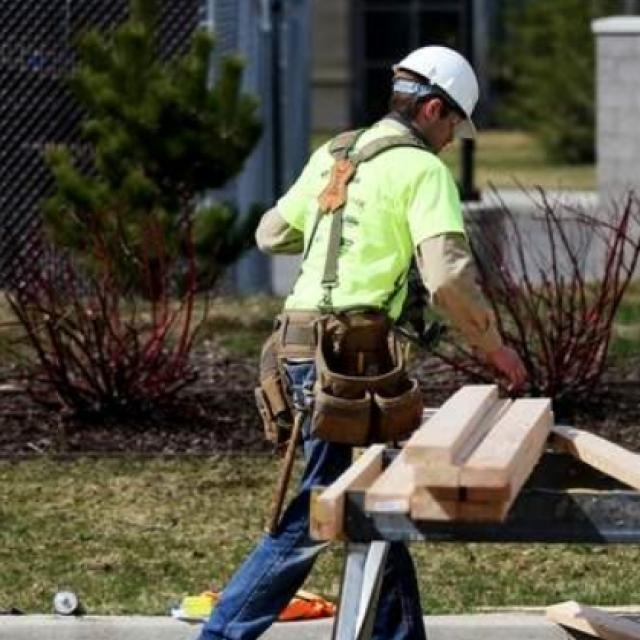Arnes_seguridad: (280, 116, 439, 319)
